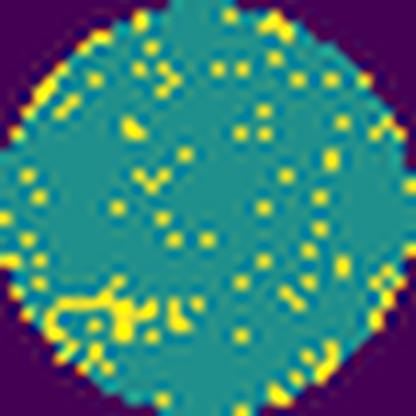Loc: (44, 273, 160, 342)
